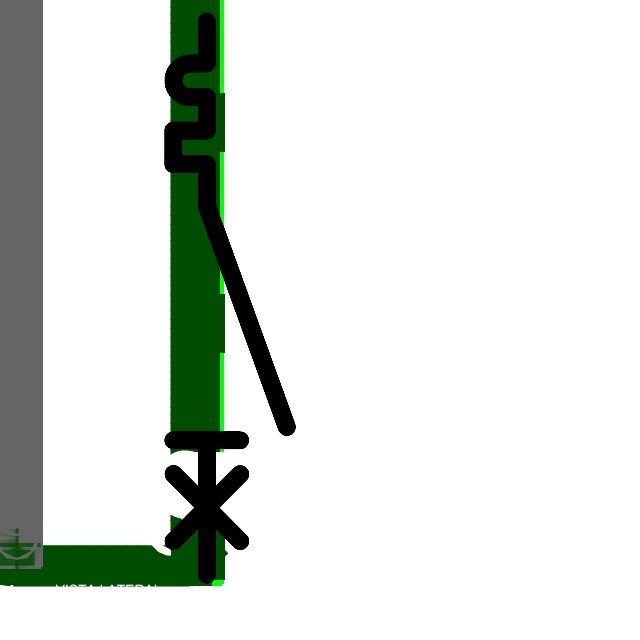interruptor_termomagnetico: (159, 7, 301, 589)
